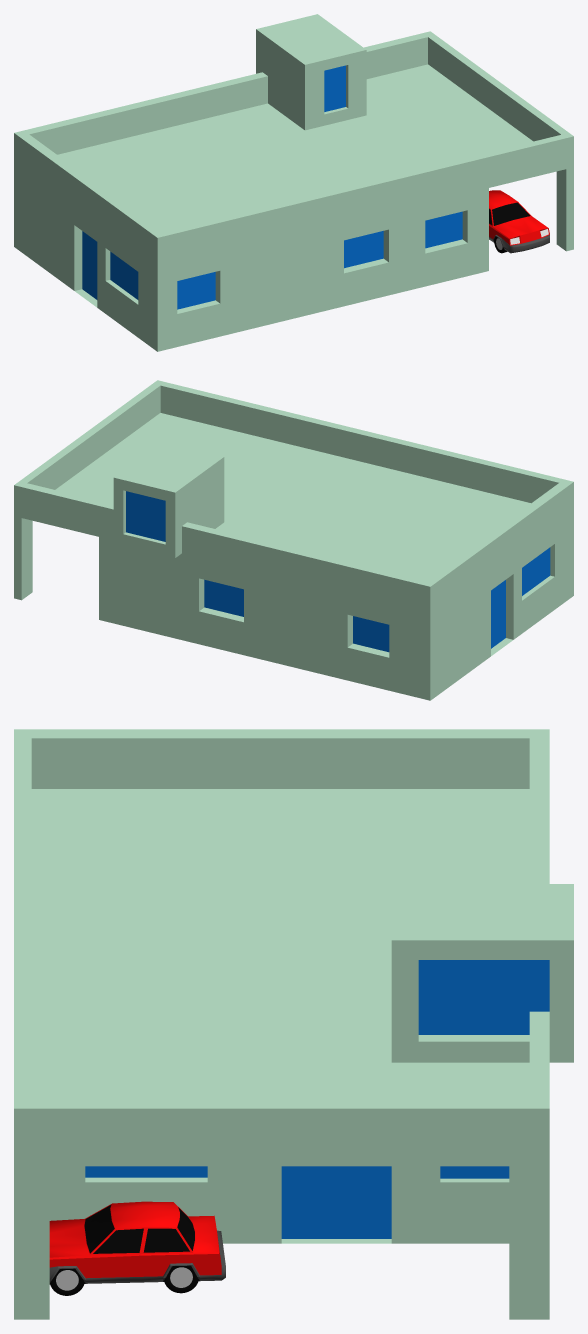
3 views of the same model, one above another, from view 1: azimuth 30°, elevation 25°; view 2: azimuth 150°, elevation 25°; view 3: azimuth 270°, elevation 25° (orthographic). The views are drawn at different scales.
Visible parts, largest first — view 1: M, W, car; view 2: M, W; view 3: M, W, car.
Boxes of the visible parts, x1=… form: M: x1=14, y1=14, x2=573, y2=351; W: x1=82, y1=65, x2=462, y2=309; car: x1=489, y1=190, x2=549, y2=253; M: x1=14, y1=380, x2=573, y2=700; W: x1=126, y1=491, x2=550, y2=652; M: x1=14, y1=729, x2=573, y2=1319; W: x1=85, y1=960, x2=549, y2=1238; car: x1=49, y1=1201, x2=225, y2=1295.
Size of the model in its own units: 10.05 by 3.51 by 6.27.
